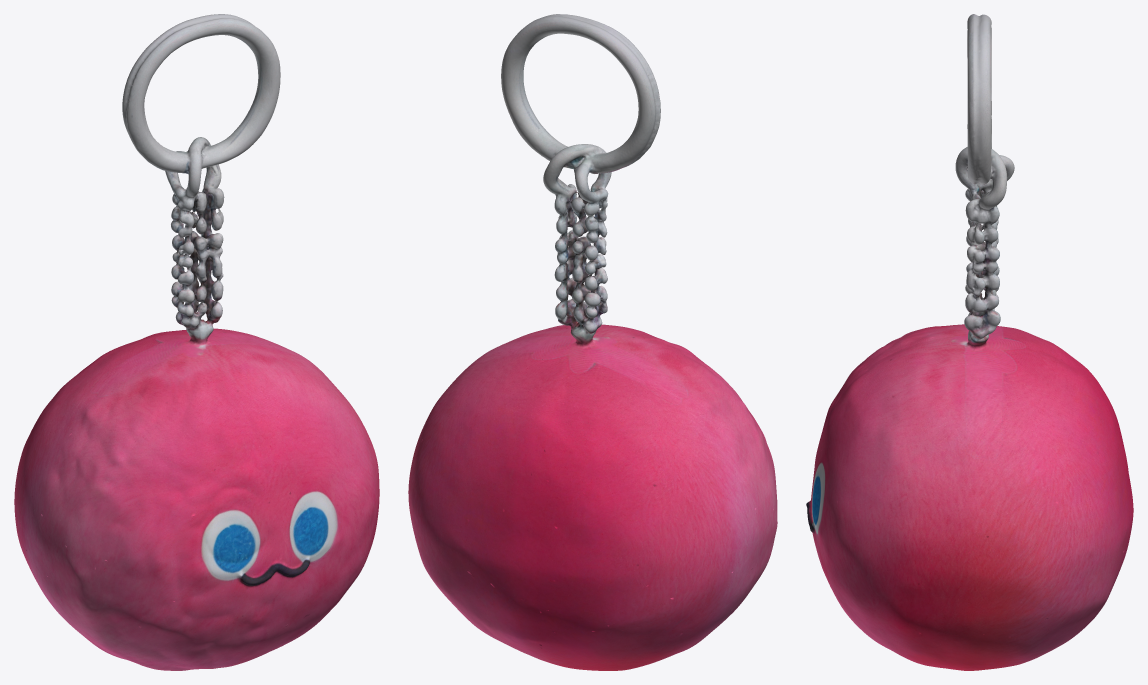
The model's file is hanging-ball-pink.glb.
The picture shows the model from 3 angles, left to right: view 1: azimuth 30°, elevation 25°; view 2: azimuth 150°, elevation 25°; view 3: azimuth 270°, elevation 25°; orthographic projection.
Size of the model in its own units: 1.07 by 2 by 0.9479.
Materials: 1 (1 with a texture image).
